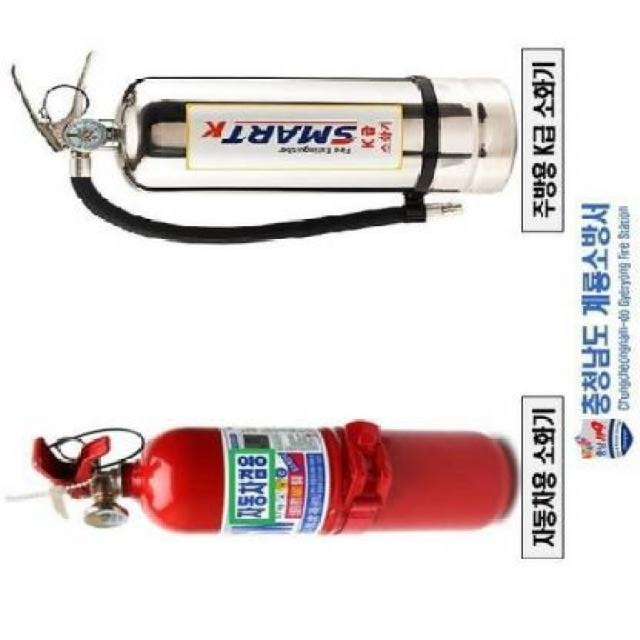fire extinguisher: (10, 51, 518, 246), (6, 421, 512, 536)
